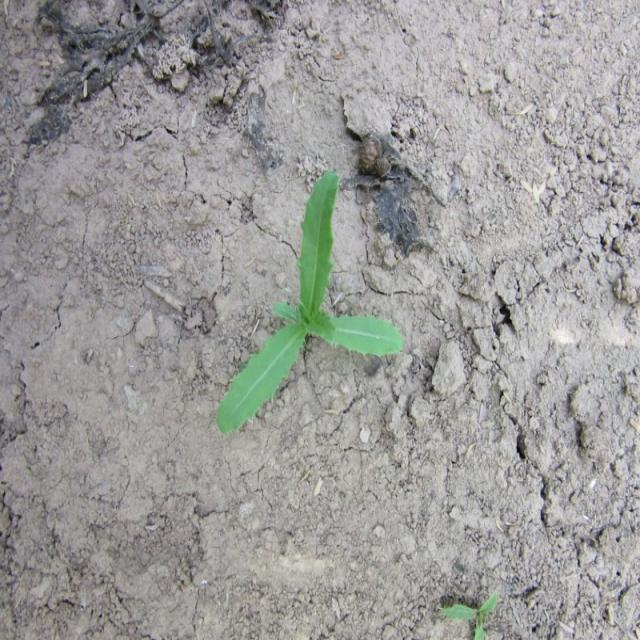cs: (211, 162, 407, 441)
